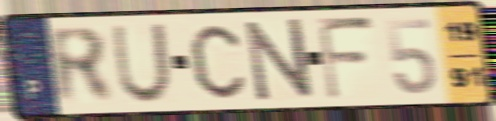5: (383, 15, 438, 96)
C: (187, 22, 248, 102)
F: (314, 15, 378, 103)
N: (243, 15, 317, 104)
R: (45, 25, 119, 108)
U: (109, 21, 174, 106)
